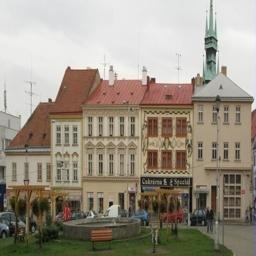building: (55, 67, 253, 221)
